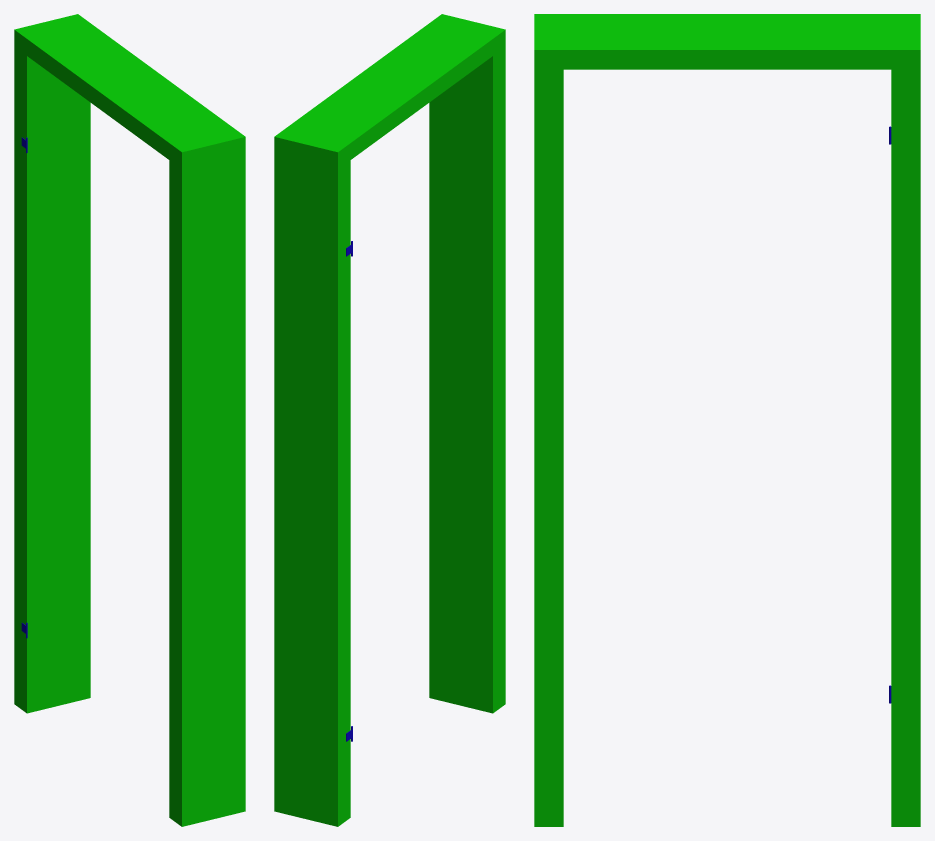
The model's file is door_frame.fbx.
3 renders of one model, left to right at view 1: azimuth 30°, elevation 25°; view 2: azimuth 150°, elevation 25°; view 3: azimuth 270°, elevation 25°, orthographic. The views are drawn at different scales.
Parts seen in each view (by area): view 1: frame; view 2: frame; view 3: frame.
Boxes of the visible parts, bbox=[...] form: frame: bbox=[14, 14, 245, 826]; frame: bbox=[274, 14, 505, 826]; frame: bbox=[534, 14, 920, 826].
Size of the model in its own units: 21.51 by 212 by 95.72.
